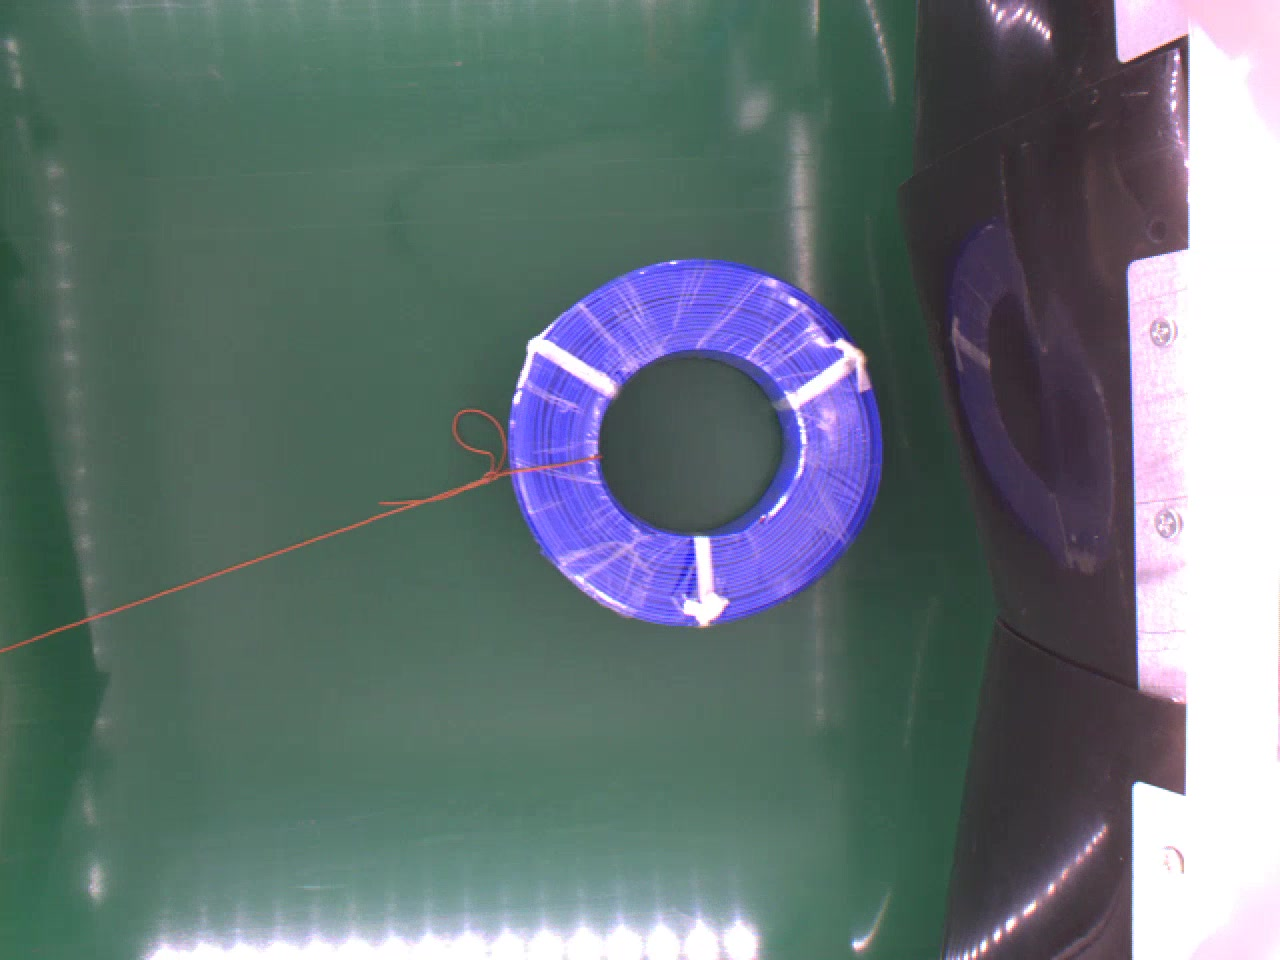blue: (496, 251, 877, 619)
